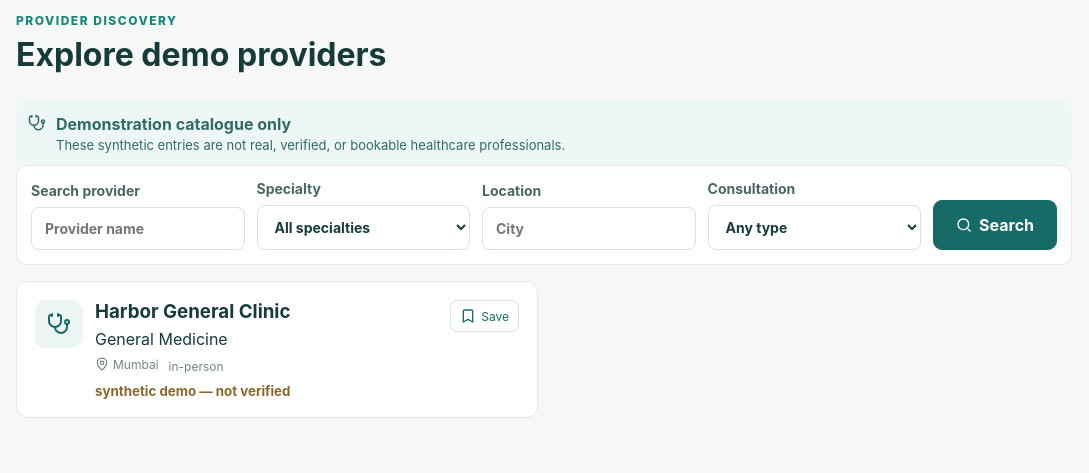
Test: ProviderDirectory saved state › uses the saved/unsave control labels and restores state after remount
The image size is (1089, 473).
Later steps or results of the test are not shown.
Click the button with aria-label "Save Harbor General Clinic".
click(485, 316)  # box [450,300,519,332]
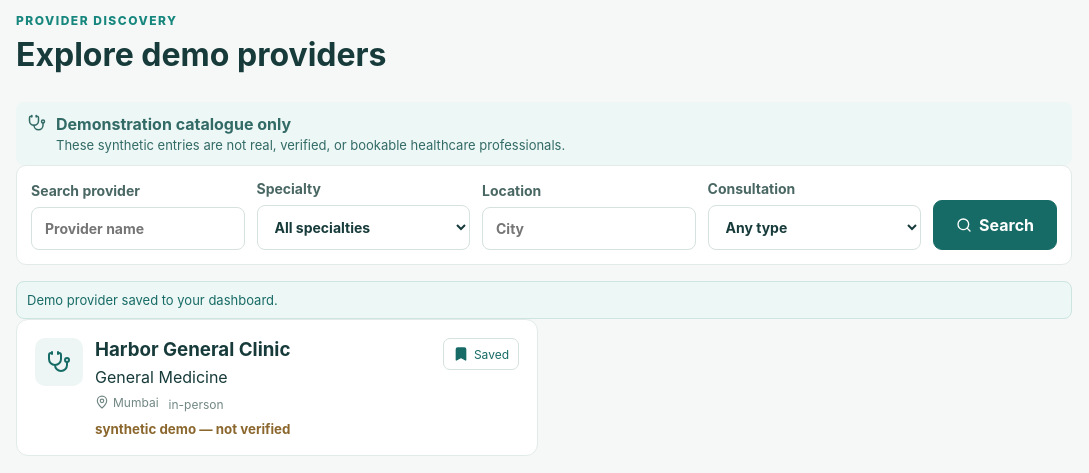
Now the button with aria-label "Unsave Harbor General Clinic" reads "Saved", box [443,338,519,370]
